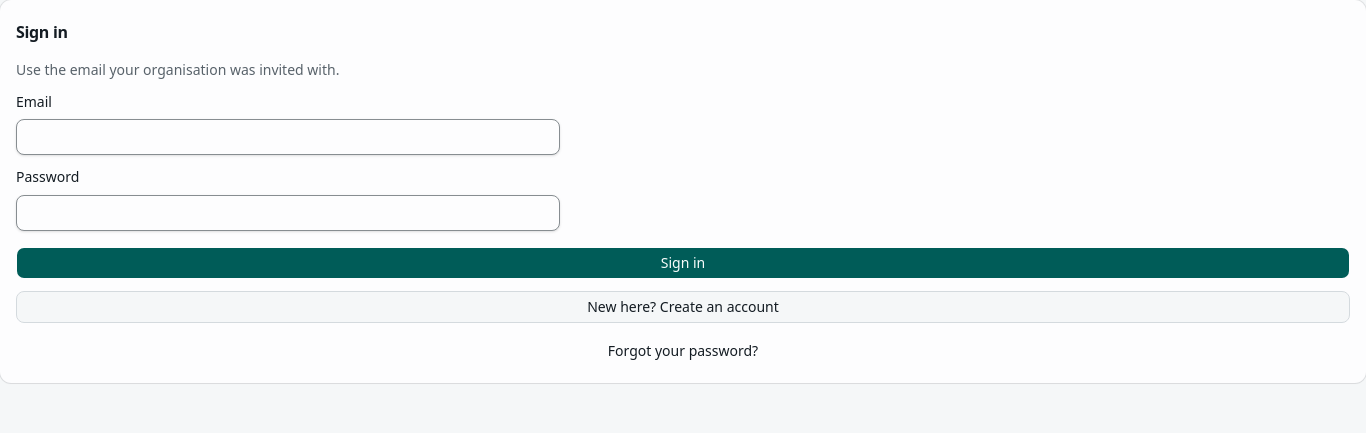
Test case: SignIn › announces failures in an alert region and stays on the form
Type "owner@example.test" into the field labelled "Email" at coordinates (288, 137), box [16, 119, 560, 155]
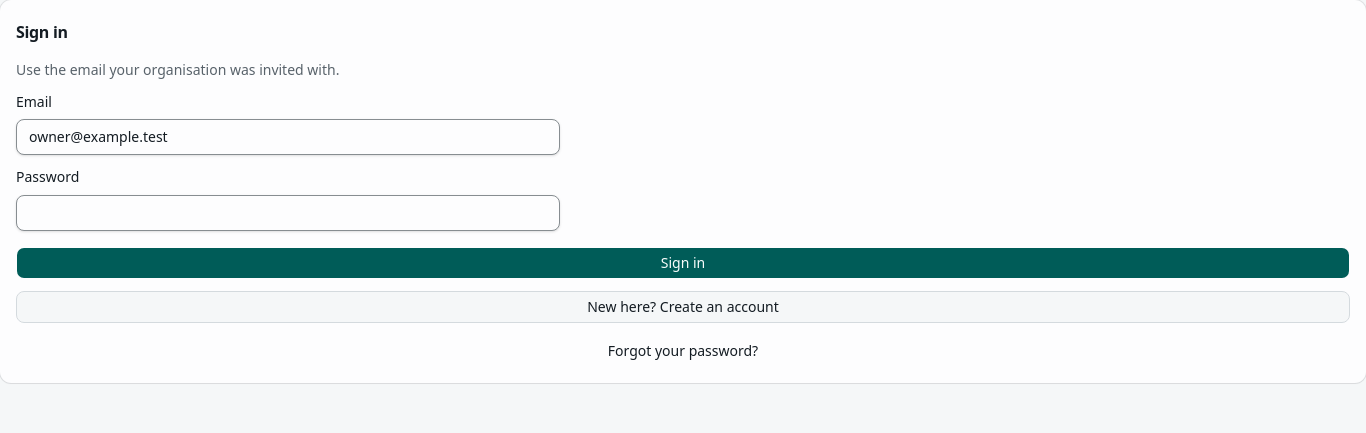
Type "wrong-password" into the password field labelled "Password" at coordinates (288, 212), box [16, 194, 560, 230]
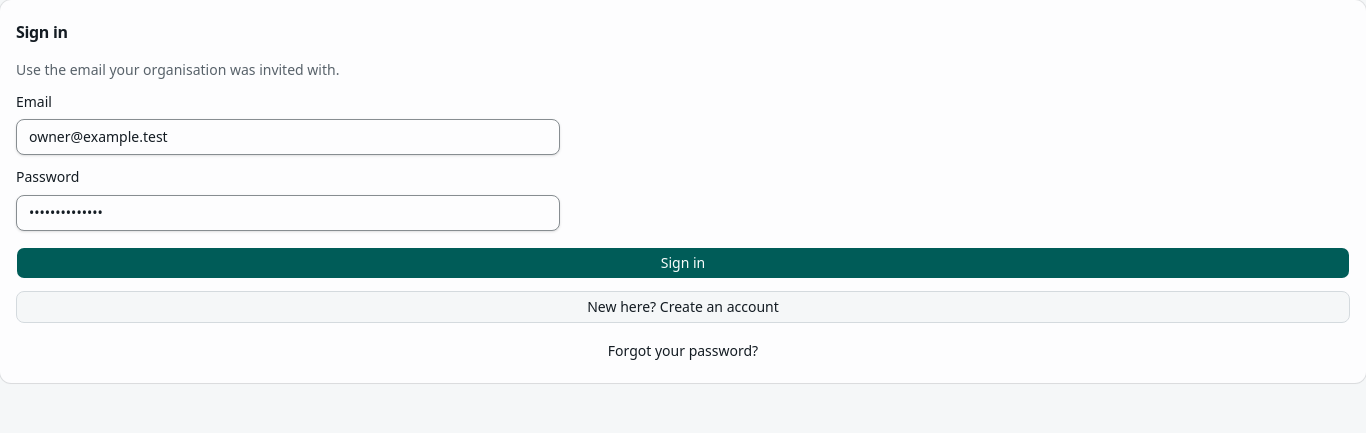
Click the button "Sign in" at coordinates (683, 262), box [16, 246, 1350, 278]
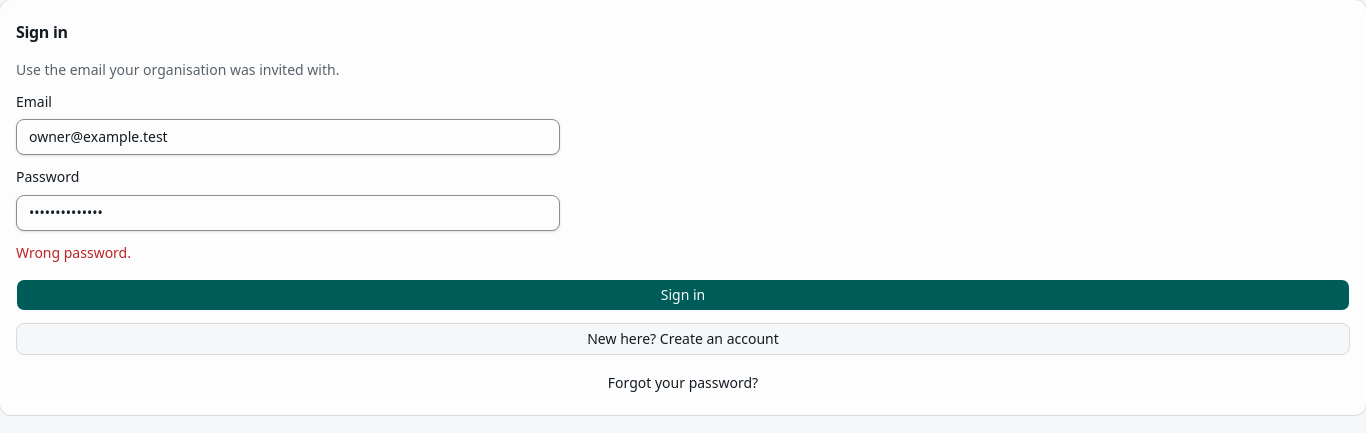
Check: the message reads "Wrong password.", box [16, 242, 131, 262]
